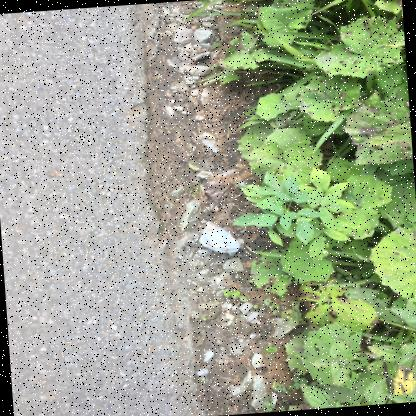Drink can: (199, 221, 243, 253)
